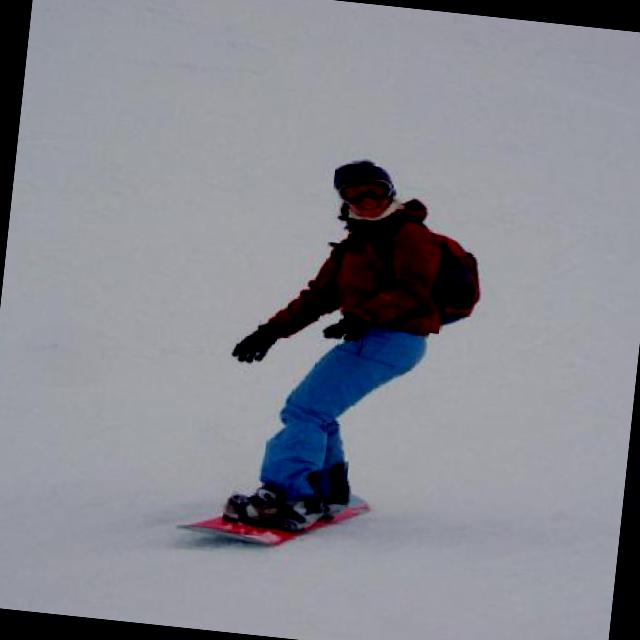Person: (234, 148, 491, 538)
